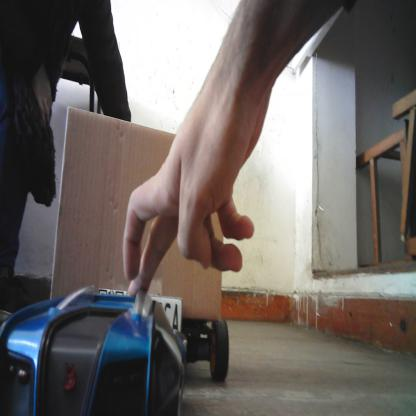LeadTruck: (54, 100, 231, 378)
